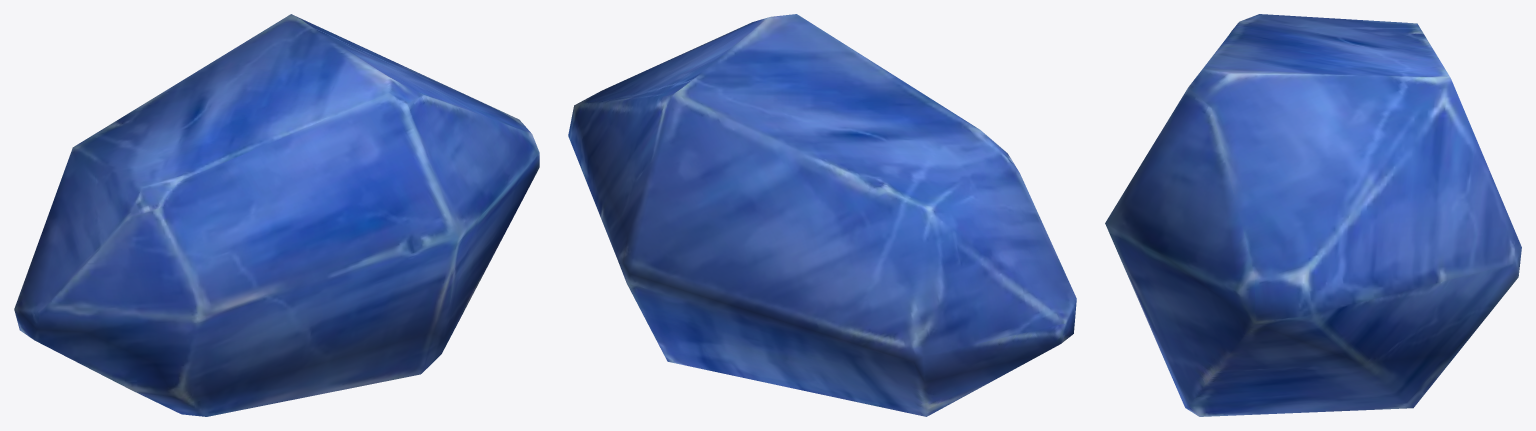
The picture shows the model from 3 angles, left to right: view 1: azimuth 30°, elevation 25°; view 2: azimuth 150°, elevation 25°; view 3: azimuth 270°, elevation 25°; orthographic projection. The views are drawn at different scales.
Visible parts, largest first — view 1: SM_Gemstone_Sapphire_01_LOD0; view 2: SM_Gemstone_Sapphire_01_LOD0; view 3: SM_Gemstone_Sapphire_01_LOD0.
Part boxes in pixels (<box>): SM_Gemstone_Sapphire_01_LOD0: <box>14,14,539,416</box>; SM_Gemstone_Sapphire_01_LOD0: <box>568,14,1076,416</box>; SM_Gemstone_Sapphire_01_LOD0: <box>1105,14,1521,416</box>.
Bounding box in the file's own units: 0.3544 × 0.1969 × 0.2251.
Materials: 1 (1 with a texture image).
